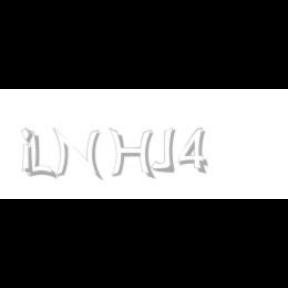4: (178, 128, 208, 174)
H: (109, 128, 155, 180)
J: (150, 128, 176, 172)
L: (26, 128, 54, 180)
N: (52, 128, 101, 180)
i: (21, 128, 37, 176)
